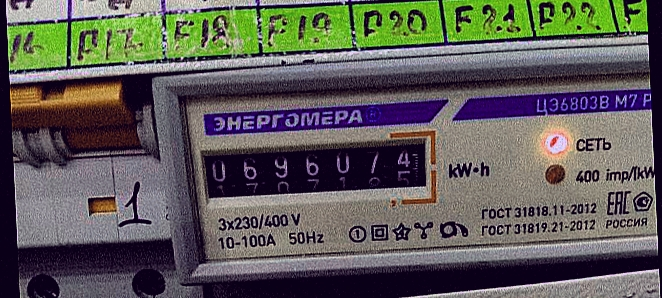0: (204, 159, 224, 185), (331, 151, 348, 177)
4: (392, 147, 409, 171)
5: (393, 171, 409, 189)
6: (237, 156, 257, 184), (299, 154, 317, 179)
7: (360, 150, 379, 177)
9: (267, 155, 287, 181)
screen: (185, 127, 441, 220)
